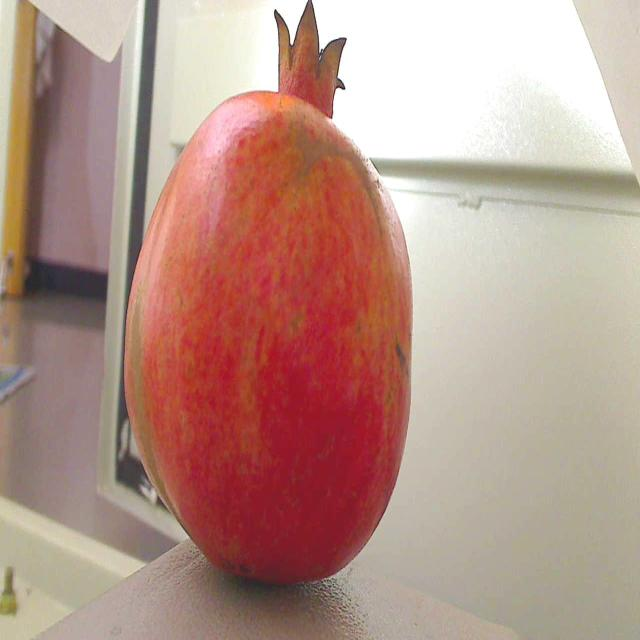pomegranate: (118, 0, 420, 594)
